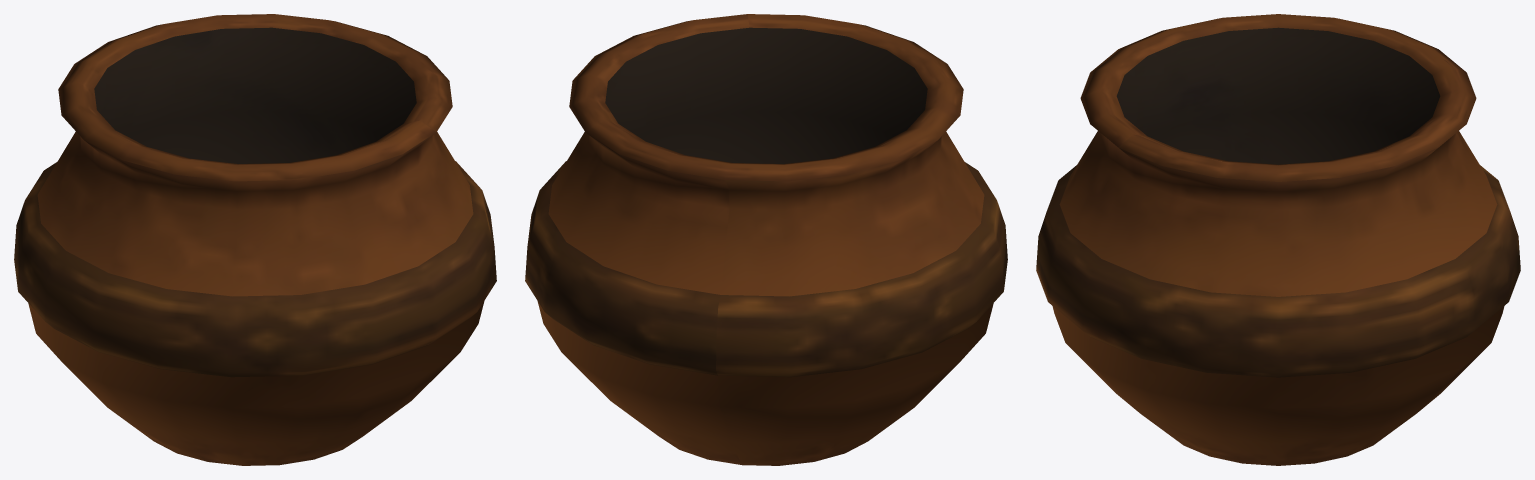
Rendered from Vase 2.glb.
3 views of the same model, side by side, from view 1: azimuth 30°, elevation 25°; view 2: azimuth 150°, elevation 25°; view 3: azimuth 270°, elevation 25° (orthographic).
Parts seen in each view (by area): view 1: Vase_2; view 2: Vase_2; view 3: Vase_2.
Boxes of the visible parts, box(x1,y1,x2,y2) form: Vase_2: box(14, 14, 496, 465); Vase_2: box(525, 14, 1007, 465); Vase_2: box(1036, 14, 1520, 465).
Size of the model in its own units: 0.6947 by 0.5163 by 0.6947.
Materials: 1 (1 with a texture image).
